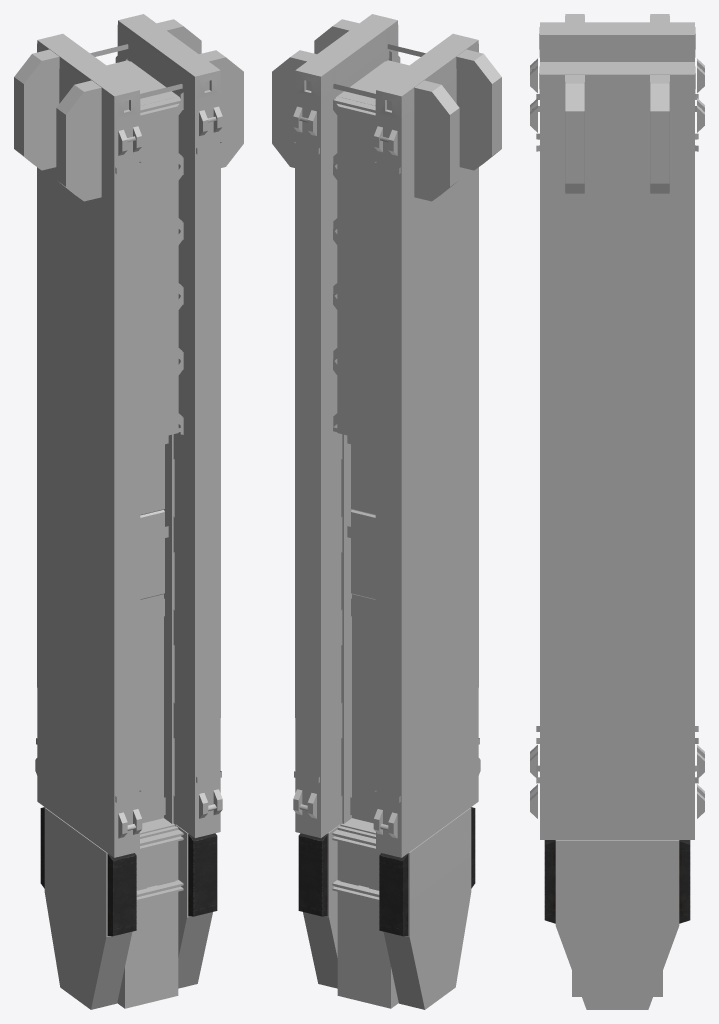
The model's file is Wall_Large_06_LOD2.fbx.
The picture shows the model from 3 angles, left to right: view 1: azimuth 30°, elevation 25°; view 2: azimuth 150°, elevation 25°; view 3: azimuth 270°, elevation 25°; orthographic projection.
Visible parts, largest first — view 1: Concrete_Blocks, Element1, Element4, Element3, Element5, Element2; view 2: Concrete_Blocks, Element1, Element4, Element3, Element5, Element2; view 3: Concrete_Blocks, Element5, Element3, Element4.
Part boxes in pixels (bbox=[...]): Concrete_Blocks: bbox=[14, 14, 243, 1009]; Element1: bbox=[140, 434, 175, 834]; Element4: bbox=[90, 29, 184, 455]; Element3: bbox=[40, 807, 217, 936]; Element5: bbox=[35, 56, 222, 841]; Element2: bbox=[107, 60, 183, 901]; Concrete_Blocks: bbox=[272, 14, 501, 1009]; Element1: bbox=[340, 434, 375, 834]; Element4: bbox=[331, 29, 425, 455]; Element3: bbox=[298, 807, 475, 936]; Element5: bbox=[293, 56, 480, 841]; Element2: bbox=[332, 60, 408, 901]; Concrete_Blocks: bbox=[539, 14, 695, 1009]; Element5: bbox=[530, 58, 704, 818]; Element3: bbox=[544, 840, 690, 923]; Element4: bbox=[558, 37, 676, 61].
Size of the model in its own units: 661 by 3307 by 561.
